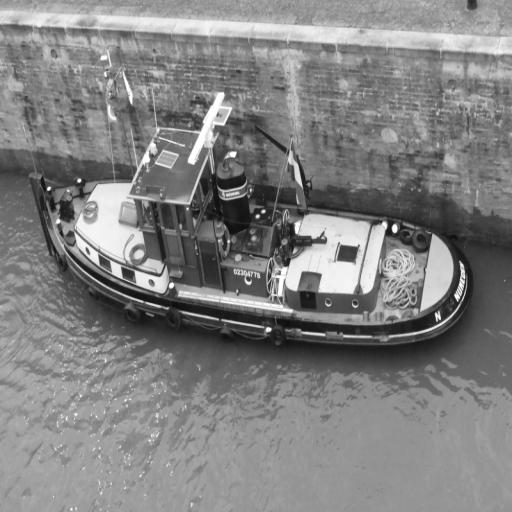tugboat: (25, 89, 479, 359)
